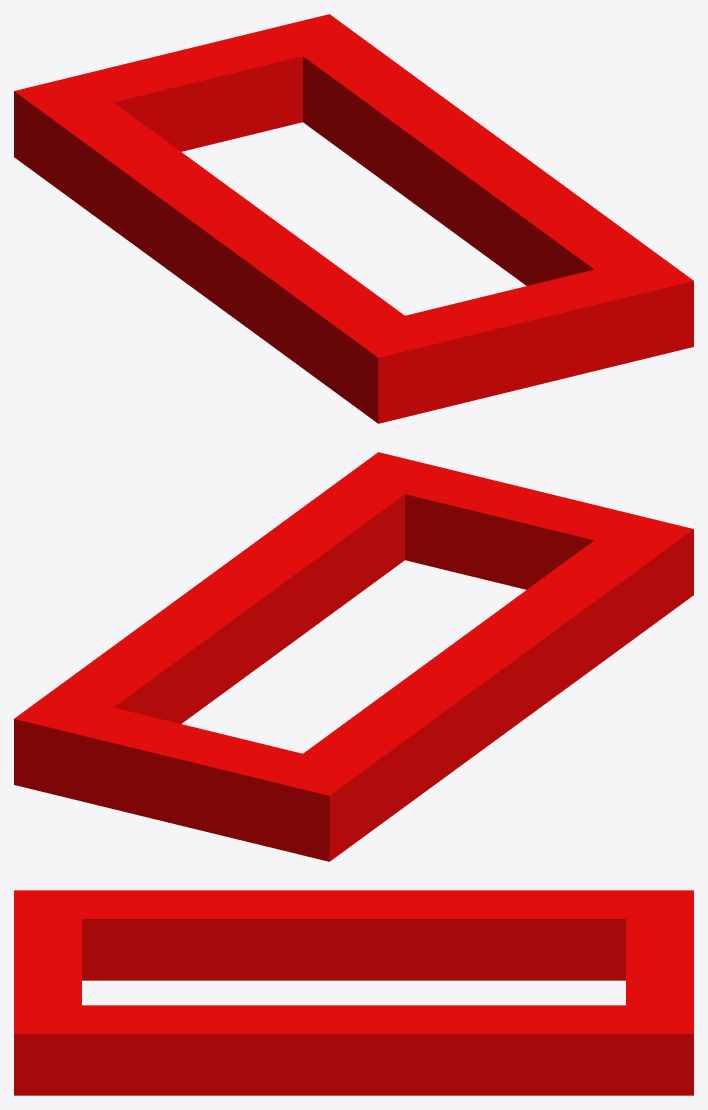
File: frame.glb
3 views of the same model, one above another, from view 1: azimuth 30°, elevation 25°; view 2: azimuth 150°, elevation 25°; view 3: azimuth 270°, elevation 25° (orthographic). The views are drawn at different scales.
Visible parts, largest first — view 1: frameLeft, frameRight, frameTop, frameBottom; view 2: frameLeft, frameRight, frameBottom, frameTop; view 3: frameLeft, frameRight, frameBottom, frameTop.
Part boxes in pixels (left/top/right/bottom): frameLeft: left=50, top=102, right=404, bottom=396; frameRight: left=303, top=41, right=657, bottom=285; frameTop: left=342, top=254, right=693, bottom=423; frameBottom: left=14, top=14, right=365, bottom=183; frameLeft: left=303, top=540, right=657, bottom=834; frameRight: left=50, top=479, right=404, bottom=723; frameBottom: left=14, top=692, right=365, bottom=861; frameTop: left=342, top=452, right=693, bottom=621; frameLeft: left=82, top=890, right=625, bottom=980; frameRight: left=82, top=1005, right=625, bottom=1095; frameBottom: left=626, top=890, right=693, bottom=1095; frameTop: left=14, top=890, right=81, bottom=1095.
Bounding box in the file's own units: 100 × 20 × 200.
